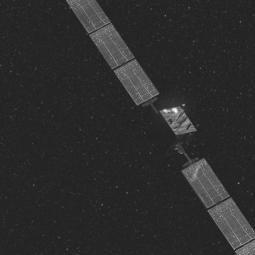smart_1: (94, 20, 235, 204)
